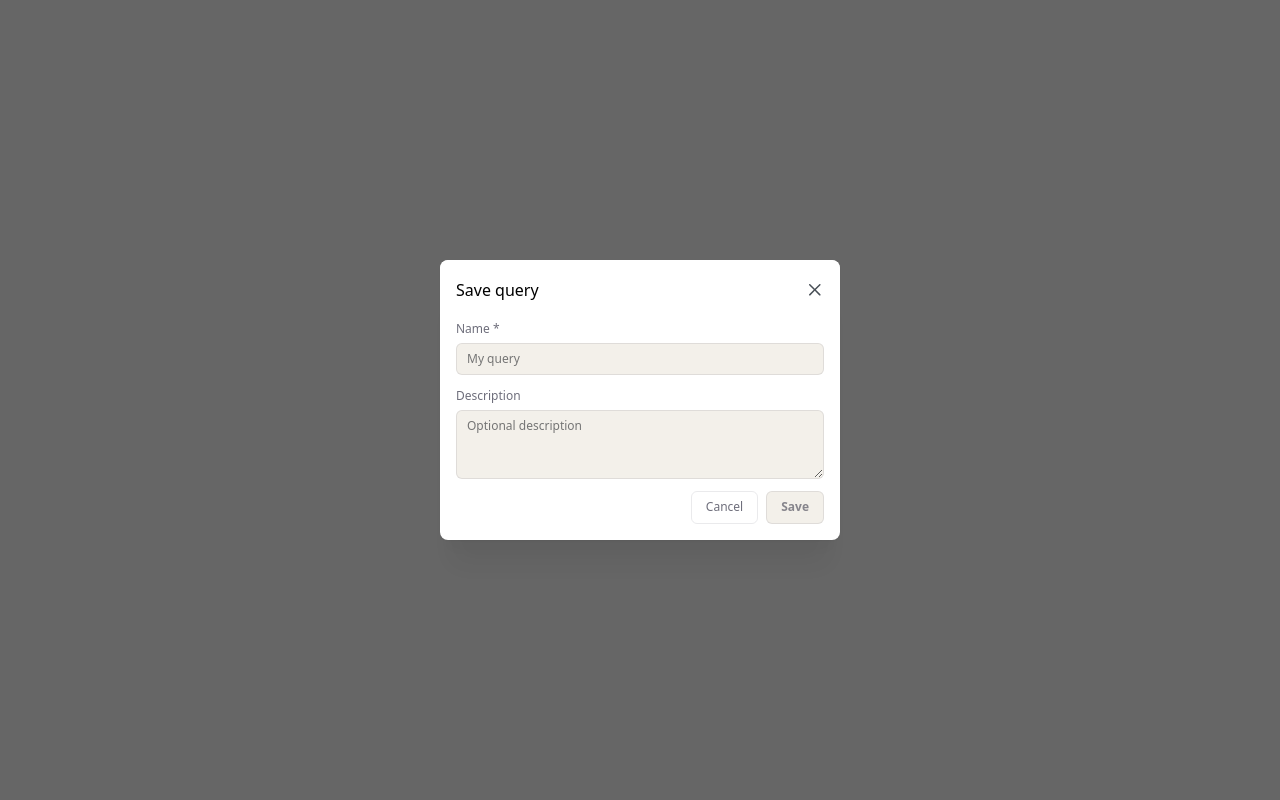
it: SaveModal — unsaved-changes guard (X15 T5) › a description alone is dirty too
Type "a note" into the text box labelled "Description" at (640, 445), box [456, 410, 824, 480]
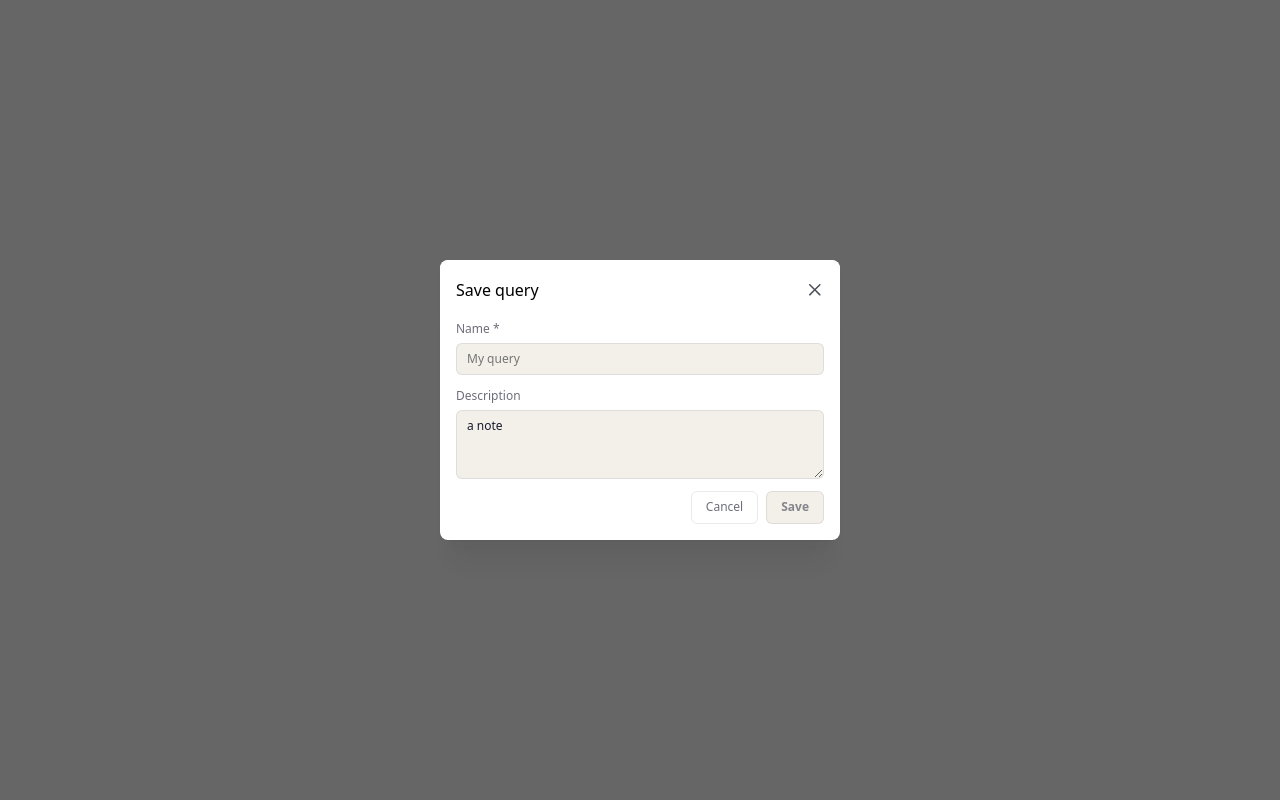
Click the button "Cancel" at (725, 508), box [691, 492, 758, 524]
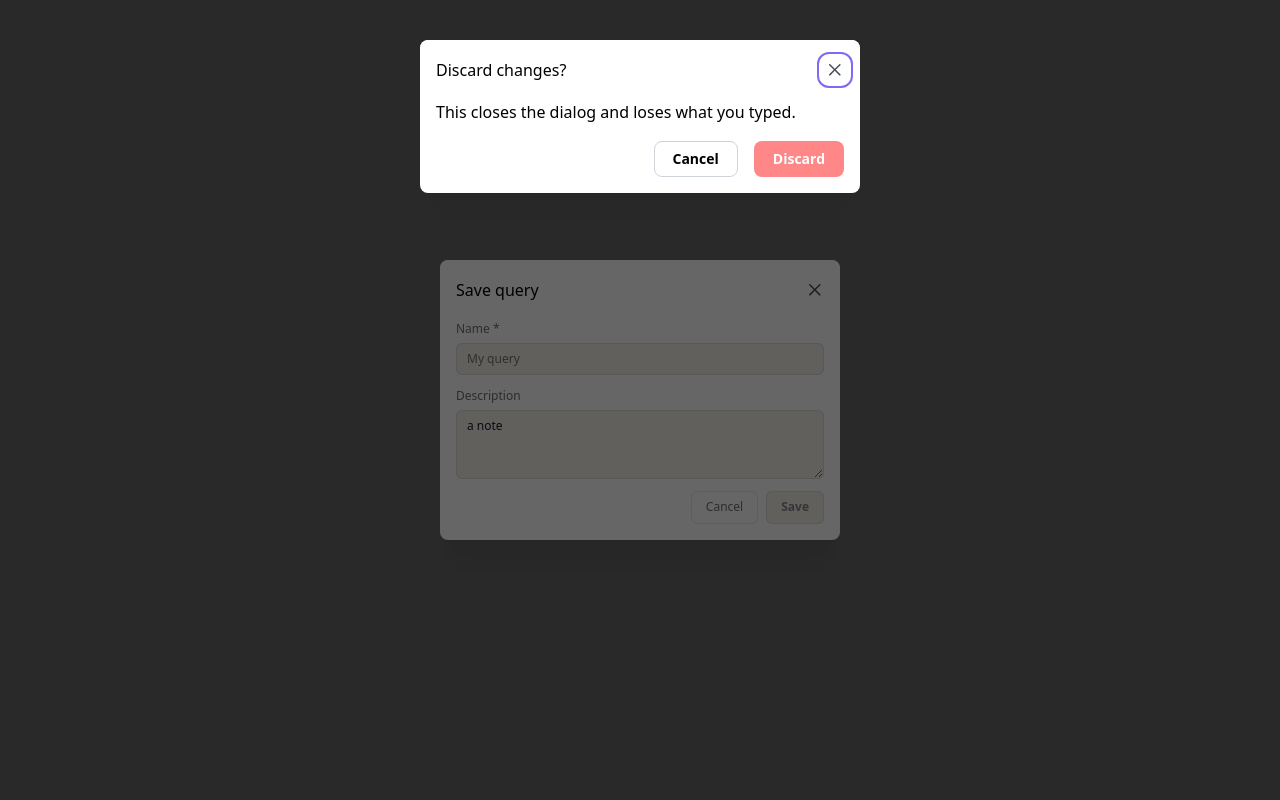
Expected: the dialog "Discard changes?" is shown, [420, 40, 860, 193]
